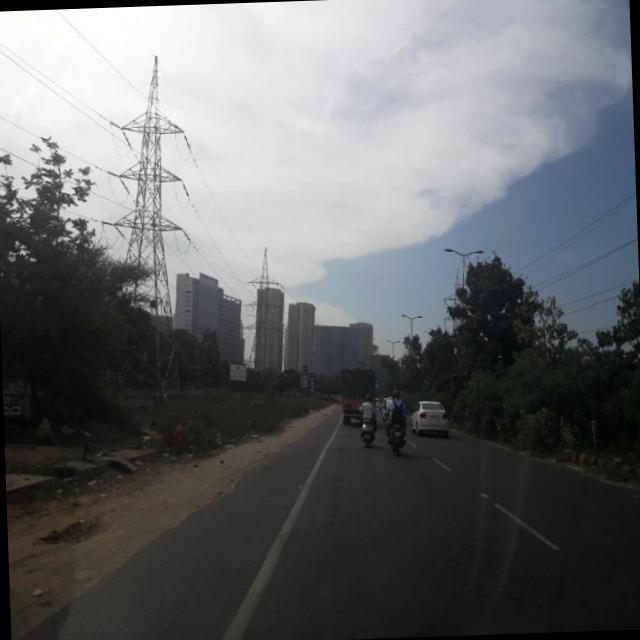crack: (245, 450, 422, 636), (427, 462, 544, 616)
